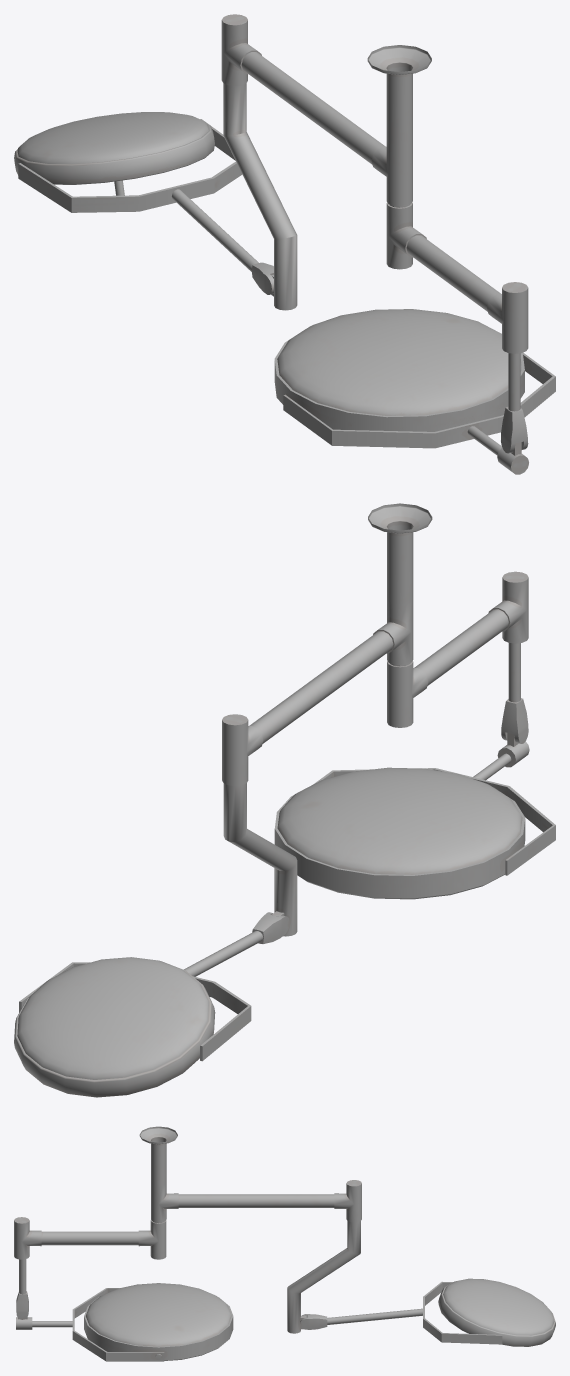
The model's file is LightA.fbx.
3 views of the same model, one above another, from view 1: azimuth 30°, elevation 25°; view 2: azimuth 150°, elevation 25°; view 3: azimuth 270°, elevation 25° (orthographic). The views are drawn at different scales.
Parts seen in each view (by area): view 1: LightA; view 2: LightA; view 3: LightA.
Part boxes in pixels (left/top/right/bottom): LightA: left=14, top=14, right=555, bottom=474; LightA: left=14, top=503, right=555, bottom=1097; LightA: left=14, top=1126, right=555, bottom=1361.
Bounding box in the file's own units: 77.62 × 113 × 272.
